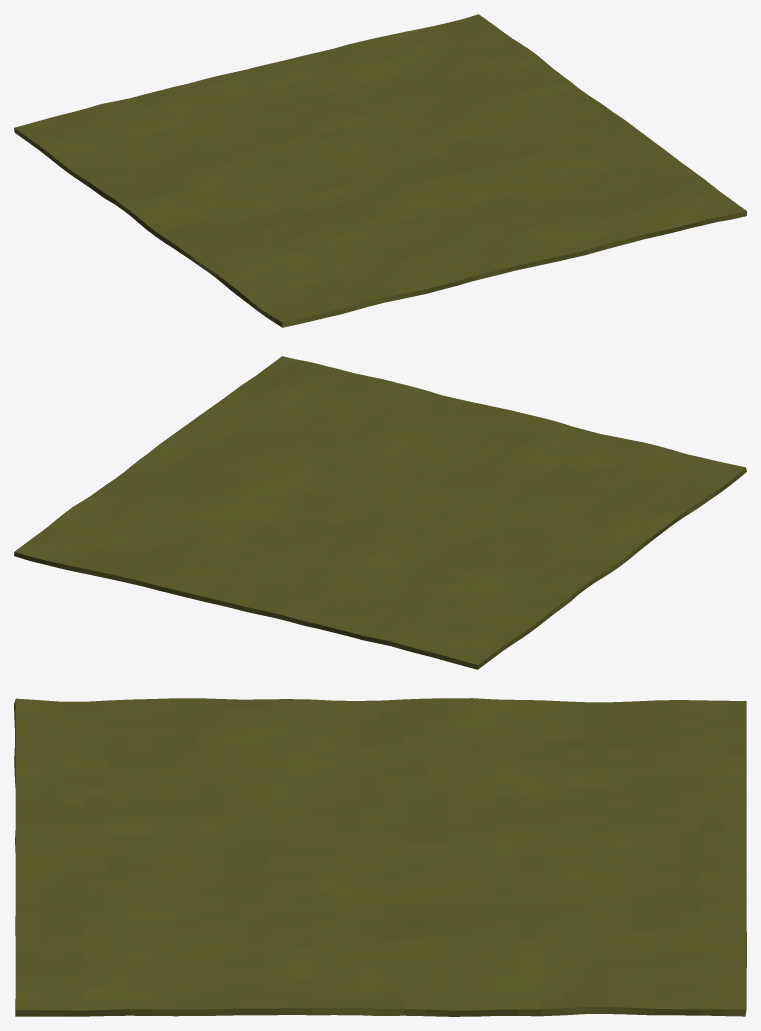
File: Sol jardin.fbx
3 renders of one model, top to bottom at view 1: azimuth 30°, elevation 25°; view 2: azimuth 150°, elevation 25°; view 3: azimuth 270°, elevation 25°, orthographic. The views are drawn at different scales.
Parts seen in each view (by area): view 1: Plane; view 2: Plane; view 3: Plane.
Part boxes in pixels (x1=…): Plane: x1=14, y1=14, x2=746, y2=327; Plane: x1=14, y1=356, x2=746, y2=669; Plane: x1=14, y1=698, x2=746, y2=1016.
Bounding box in the file's own units: 4936 × 89.08 × 4935.
